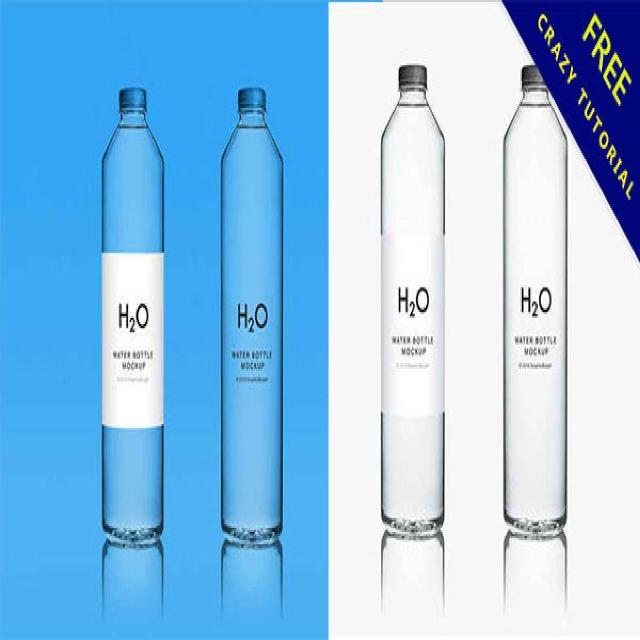bottle: (378, 62, 449, 557), (99, 63, 169, 560), (219, 66, 287, 551)
